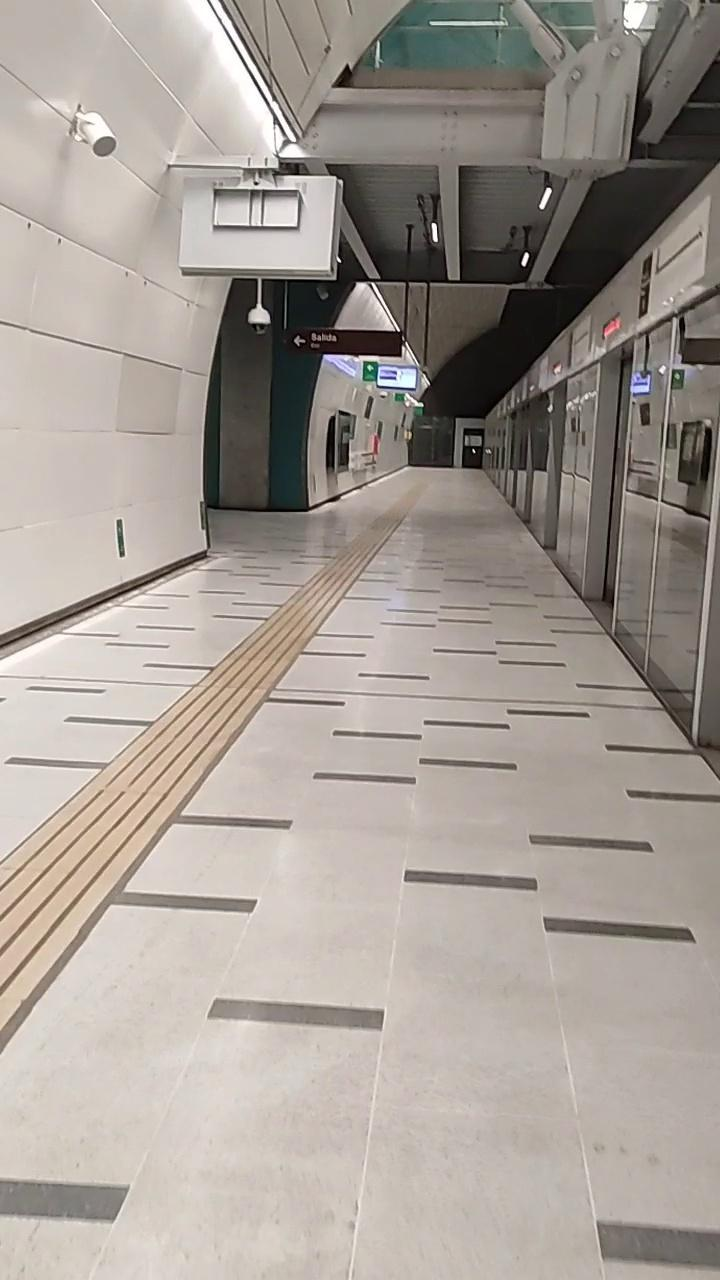left arrow: (290, 332, 307, 352)
